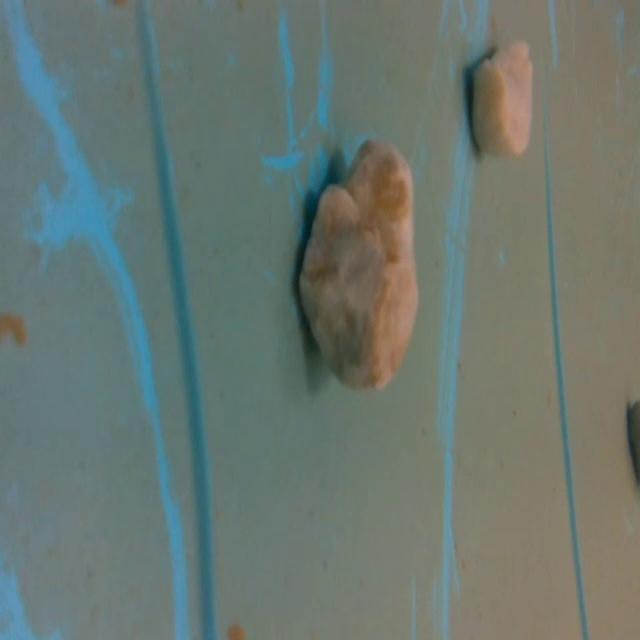rock: (290, 126, 431, 394), (460, 32, 553, 161)
